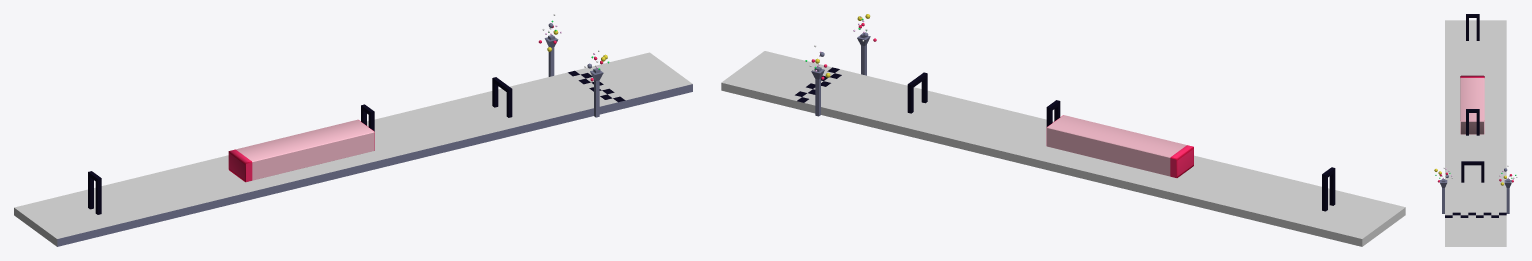
Rendered from Jelly_Shift_Game_Scene.fbx.
3 views of the same model, side by side, from view 1: azimuth 30°, elevation 25°; view 2: azimuth 150°, elevation 25°; view 3: azimuth 270°, elevation 25° (orthographic). The views are drawn at different scales.
Visible parts, largest first — view 1: Platform, Character, Obstacle_Type_A.001, Obstacle_Type_B; view 2: Platform, Character, Obstacle_Type_A.001, Obstacle_Type_B; view 3: Platform, Character, Obstacle_Type_B, Obstacle_Type_A.002, Obstacle_Type_A.001, Colored_Spheres, Column_1, Column_2.
Part boxes in pixels (<box>): Platform: <box>14,52,692,246</box>; Character: <box>228,119,374,182</box>; Obstacle_Type_A.001: <box>88,171,101,214</box>; Obstacle_Type_B: <box>492,77,512,117</box>; Platform: <box>721,51,1405,246</box>; Character: <box>1046,115,1193,177</box>; Obstacle_Type_A.001: <box>1322,167,1335,211</box>; Obstacle_Type_B: <box>907,72,927,113</box>; Platform: <box>1445,20,1506,246</box>; Character: <box>1460,75,1484,134</box>; Obstacle_Type_B: <box>1461,161,1484,182</box>; Obstacle_Type_A.002: <box>1466,109,1479,135</box>; Obstacle_Type_A.001: <box>1466,14,1479,40</box>; Colored_Spheres: <box>1434,165,1517,185</box>; Column_1: <box>1504,179,1511,213</box>; Column_2: <box>1440,179,1447,213</box>.
Bounding box in the file's own units: 17000 × 1751 × 2706.
